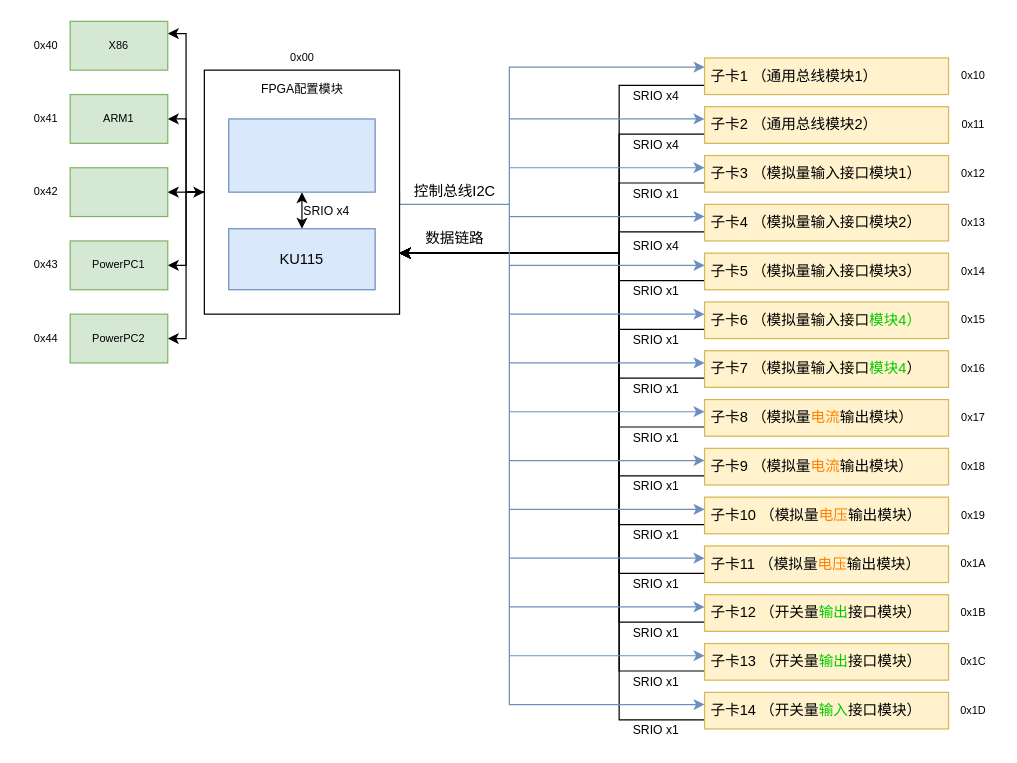
The diagram is 1017 pixels wide and 763 high, and some of its shapes have lost their labels. The centre of each missing label's shape, as x and y in pixels:
"7z045" goes at (x=301, y=155).
"ARM2" goes at (x=118, y=192).
